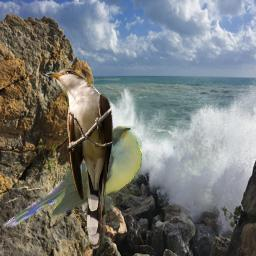Cuckoo: (1, 126, 142, 227), (46, 68, 114, 250)
